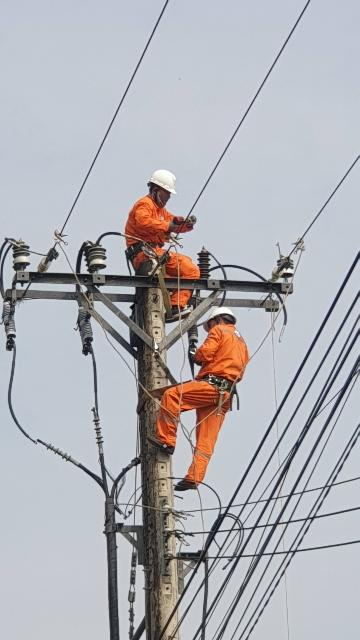gloves: (186, 213, 206, 237), (162, 219, 183, 235)
harness: (187, 367, 254, 404), (102, 238, 166, 261)
helmet: (141, 163, 191, 198), (187, 305, 246, 328)
shoes: (142, 423, 183, 460), (153, 298, 193, 321), (166, 472, 206, 494)
